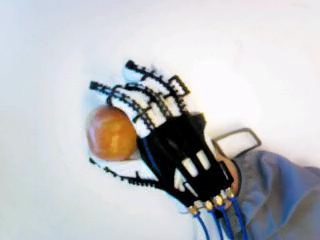apple: (83, 103, 139, 161)
hand: (88, 59, 232, 216)
